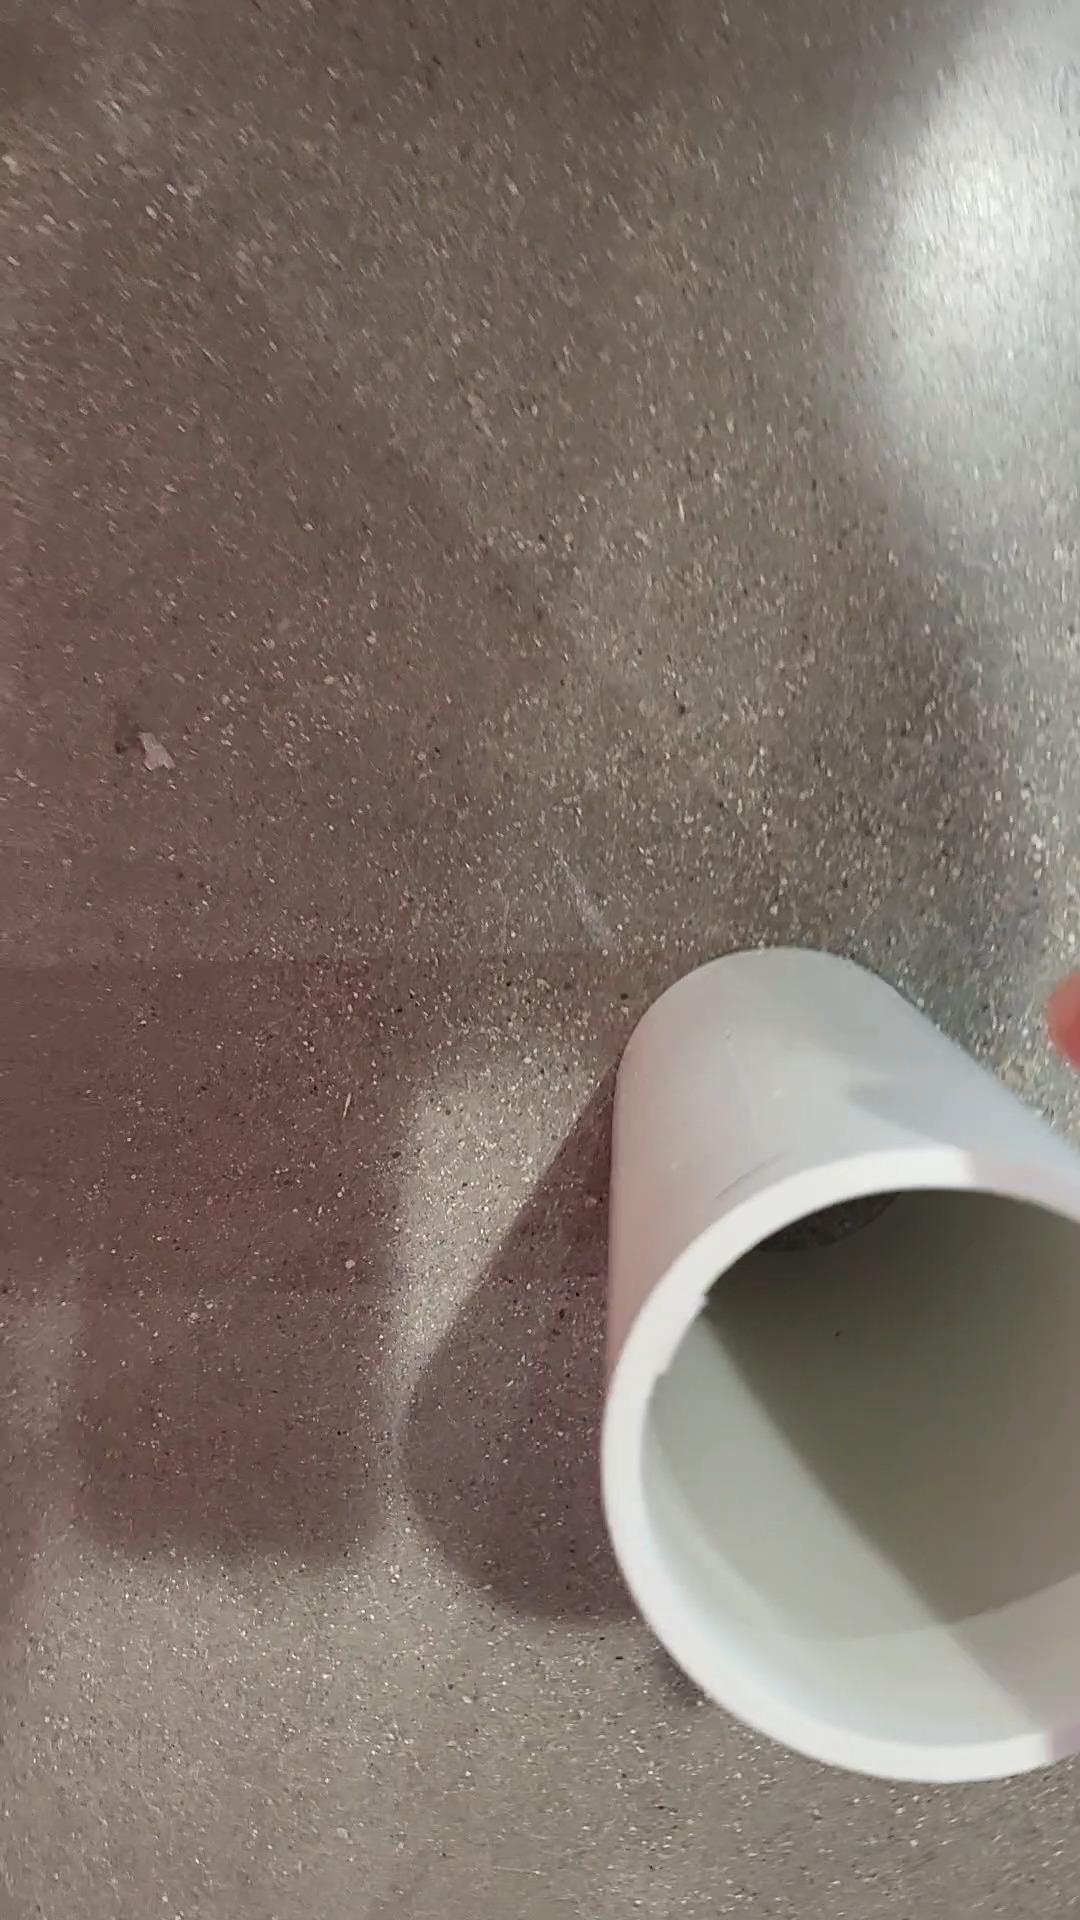coral: (587, 949, 1080, 1791)
